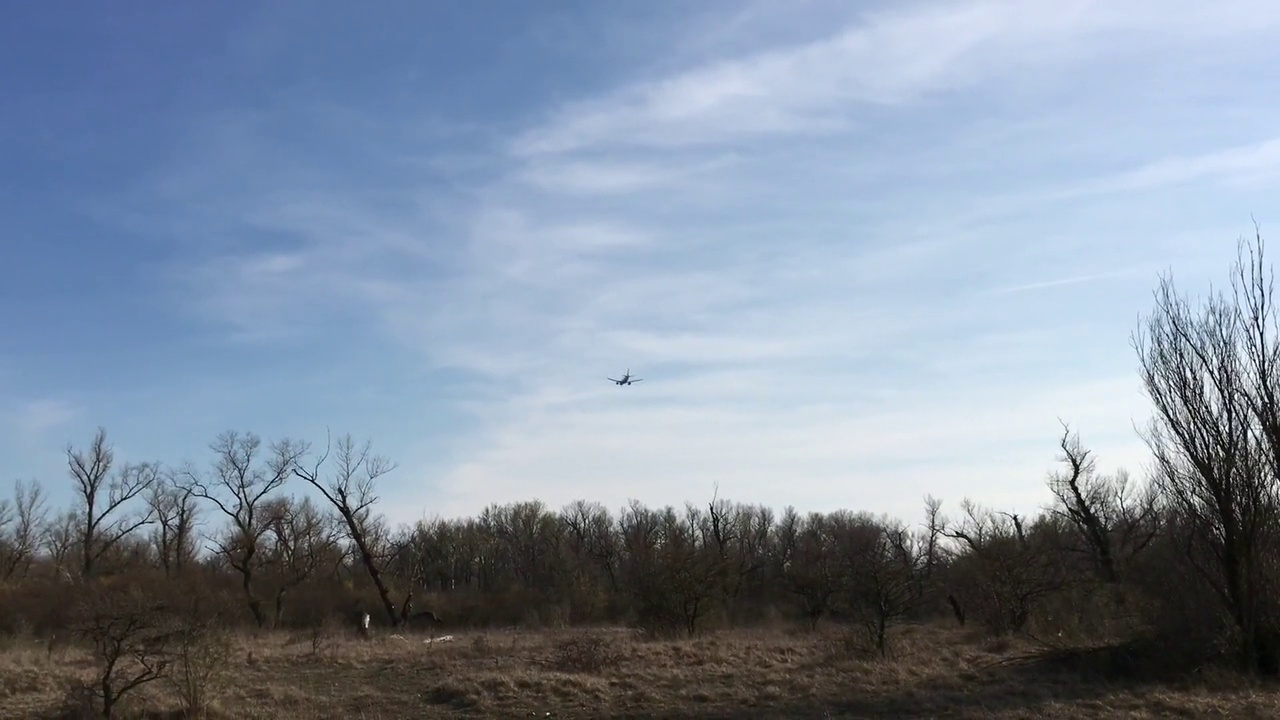plane: (606, 367, 642, 385)
